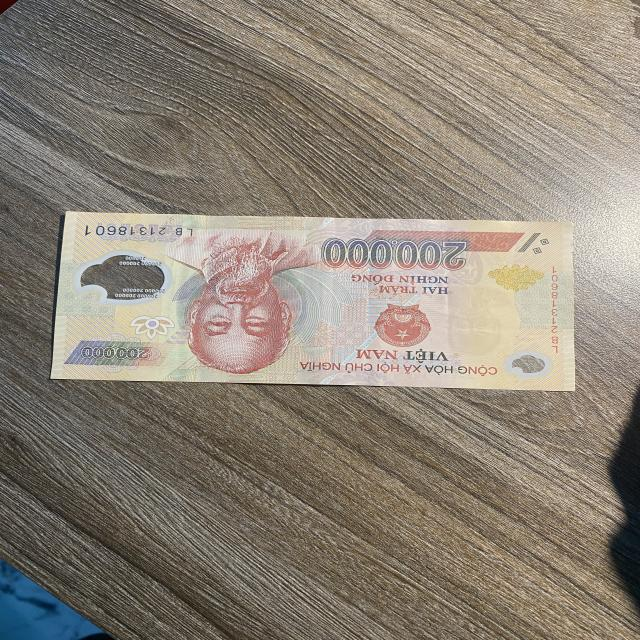200 000 VND: (48, 208, 578, 393)
